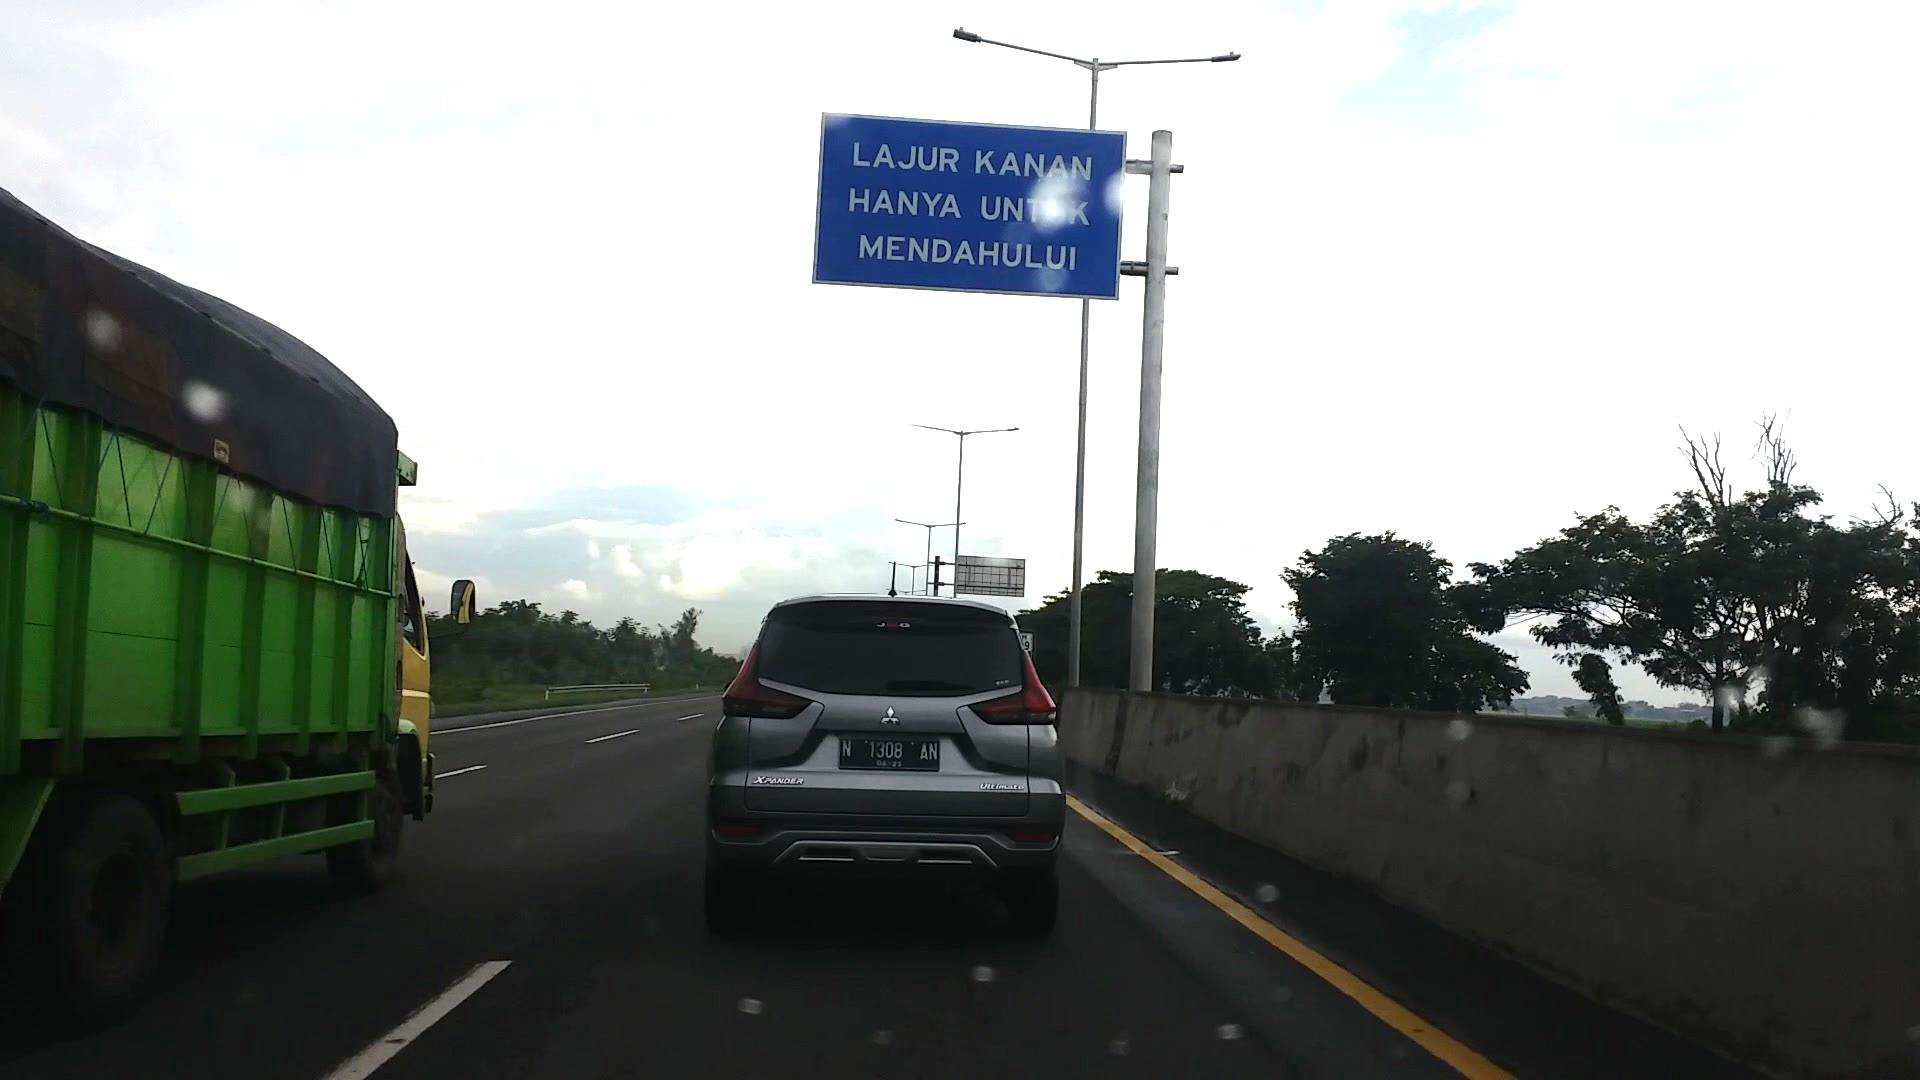plate_positive: (839, 737, 939, 771)
